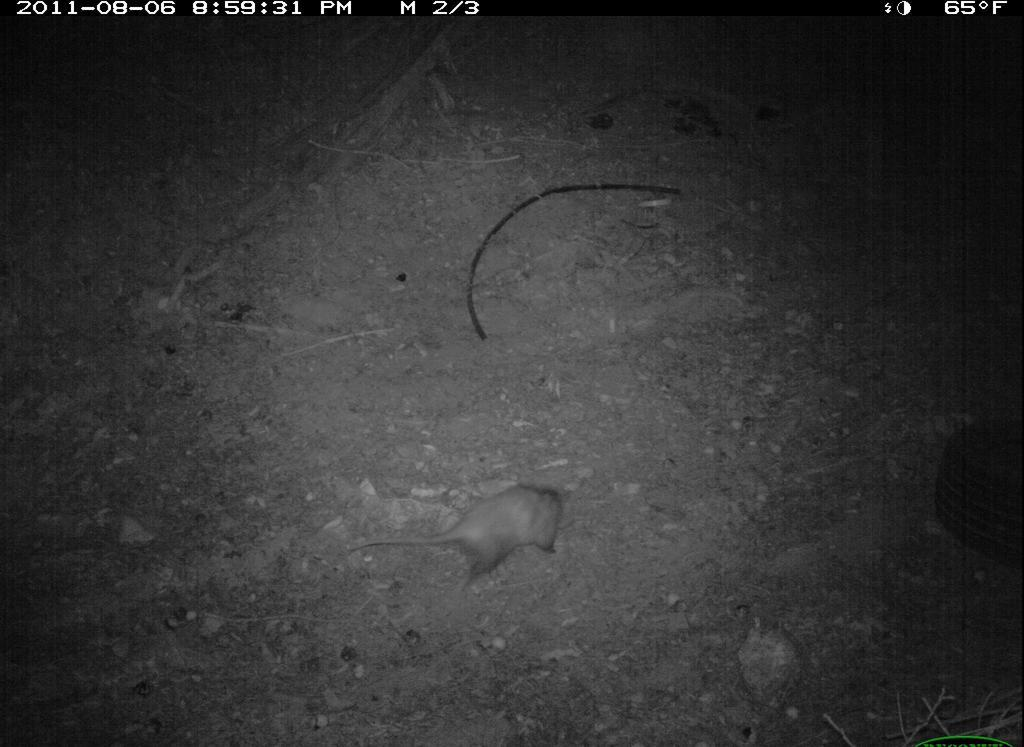opossum: (332, 475, 578, 595)
